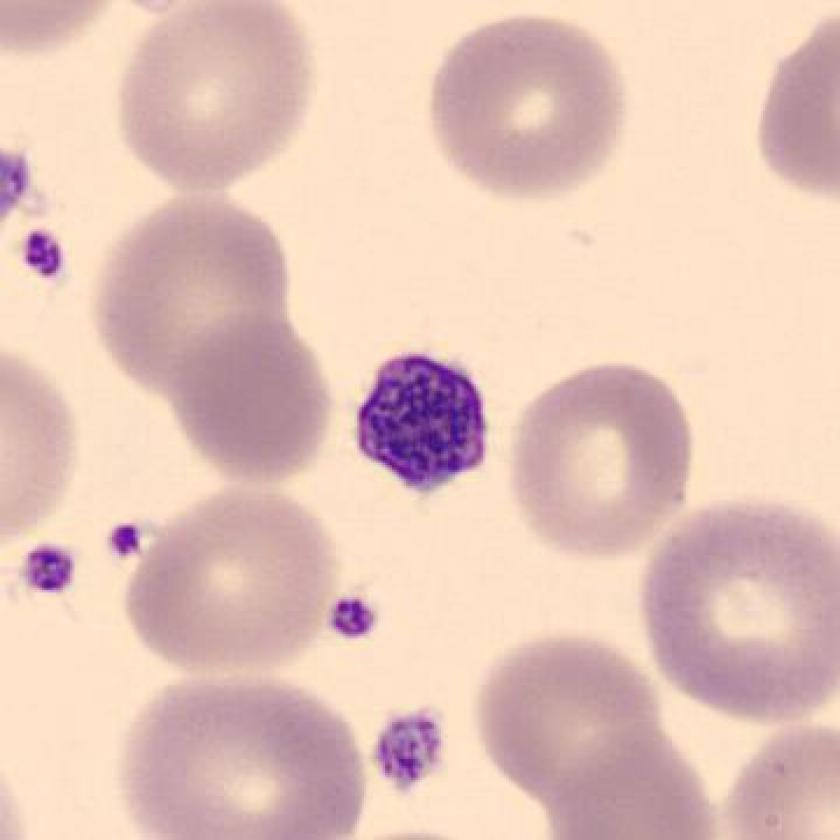platelets: (342, 344, 505, 510), (363, 693, 461, 806), (311, 584, 393, 651), (15, 531, 92, 600), (13, 223, 78, 290), (99, 512, 157, 568)
